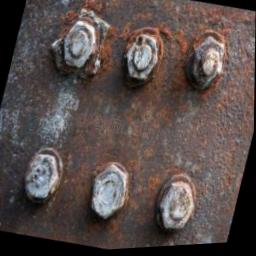Corroded-Bolt: (51, 13, 107, 84), (182, 35, 226, 100), (154, 175, 197, 235), (22, 147, 65, 206), (121, 31, 163, 90), (90, 164, 130, 221)
